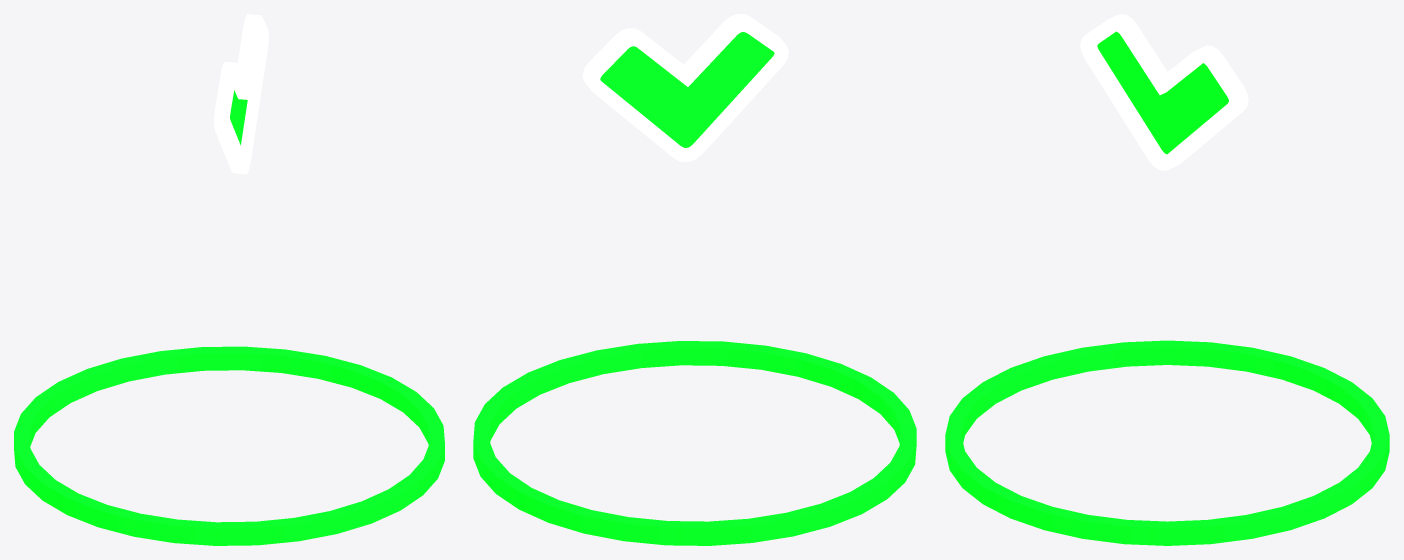
File: greenPod.glb
3 renders of one model, left to right at view 1: azimuth 30°, elevation 25°; view 2: azimuth 150°, elevation 25°; view 3: azimuth 270°, elevation 25°, orthographic. The views are drawn at different scales.
Visible parts, largest first — view 1: GreenPod; view 2: GreenPod; view 3: GreenPod.
Part boxes in pixels (<box>): GreenPod: <box>14,14,444,545</box>; GreenPod: <box>473,14,916,545</box>; GreenPod: <box>945,14,1389,545</box>.
Bounding box in the file's own units: 6.59 × 6.96 × 6.59.
